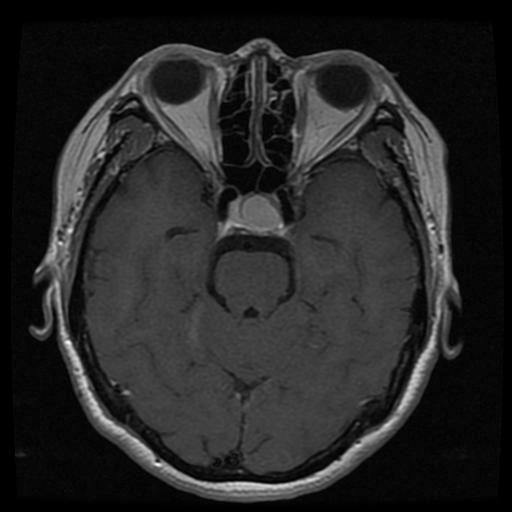Tumour-Pituitary: (205, 189, 315, 250)
